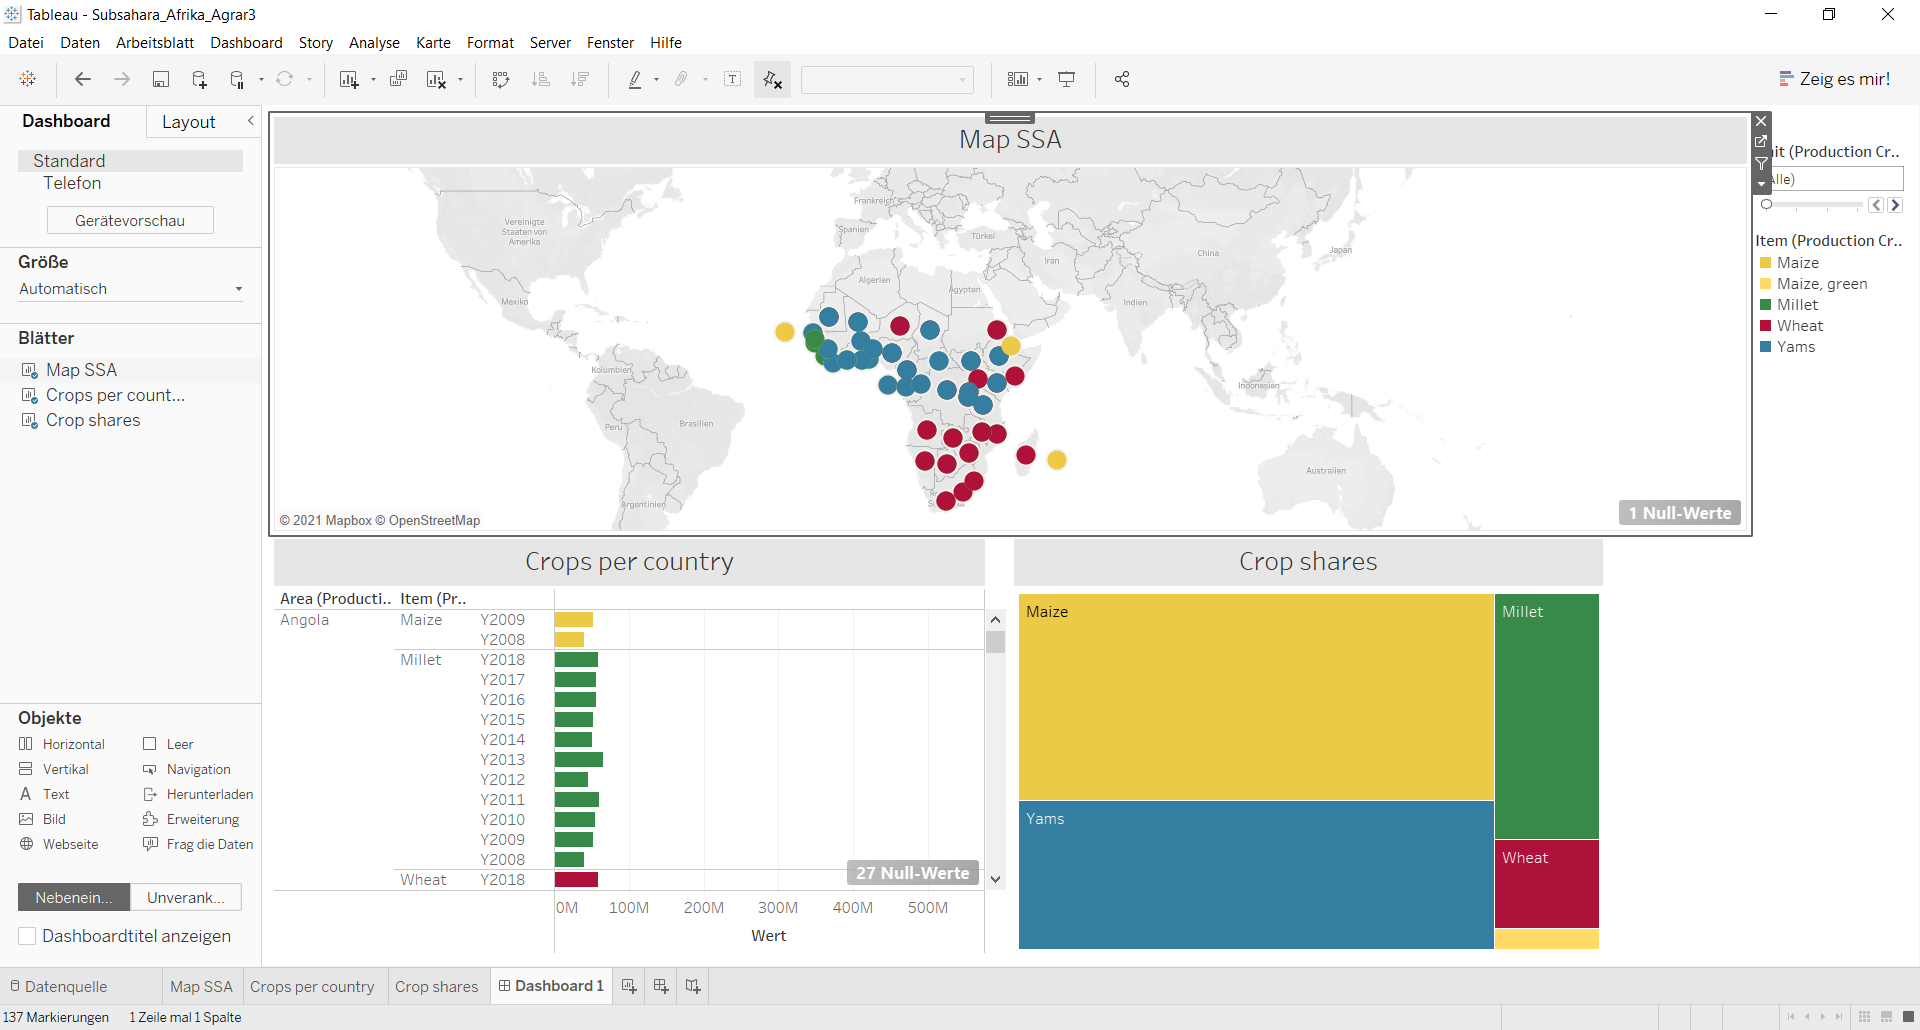

The page's visual inventory and layout, read from the dashboard file:
{"tool":"tableau","page":{"name":"Dashboard 1","canvas":[1000,1000],"units":"permille","ordinal":0},"visuals":[{"type":"worksheet","box":[0,0,1000,1000]},{"type":"worksheet","param":"horz","box":[5.2,9.1,989.5,981.9]},{"type":"worksheet","box":[5.2,9.1,884.7,981.9]},{"type":"worksheet","title":"Map SSA","mark":"Multipolygon","box":[5.2,9.1,884.7,490.9]},{"type":"worksheet","param":"vert","box":[890,9.1,104.8,981.9]},{"type":"worksheet","title":"Map SSA","mark":"Multipolygon","param":"[federated.06411ij0fmrvam14ixlwo0os8jm6].[none:Area (Production_Crops_E_All_Data","box":[890,9.1,104.8,27.2]},{"type":"worksheet","title":"Crops per country","mark":"Bar","rows":["Area (Production_Crops_E_All_Data.csv)","Item (Production_Crops_E_All_Data.csv)"],"param":"[federated.06411ij0fmrvam14ixlwo0os8jm6].[none:Unit (Production_Crops_E_All_Data","box":[890,36.2,104.8,89.5]},{"type":"worksheet","title":"Crop shares","mark":"Automatic","param":"[federated.06411ij0fmrvam14ixlwo0os8jm6].[none:Item (Production_Crops_E_All_Data","box":[890,125.7,104.8,200.5]},{"type":"worksheet","title":"Crops per country","mark":"Bar","rows":["Area (Production_Crops_E_All_Data.csv)","Item (Production_Crops_E_All_Data.csv)"],"box":[5.2,500,442.4,490.9]},{"type":"worksheet","title":"Crop shares","mark":"Automatic","box":[447.6,500,442.4,490.9]}]}

Visuals, with their boxes on the dashboard's canvas, which has no fixed pixel size, in thousandths of its width and height (x1, y1, x2, y2). These are canvas units, not pixel positions in the 1920x1030 screenshot, which may show the page scaled, cropped or inside an application window:
worksheet: <region>0, 0, 1000, 1000</region>
worksheet: <region>5, 9, 995, 991</region>
worksheet: <region>5, 9, 890, 991</region>
"Map SSA" worksheet (Multipolygon marks): <region>5, 9, 890, 500</region>
worksheet: <region>890, 9, 995, 991</region>
"Map SSA" worksheet (Multipolygon marks): <region>890, 9, 995, 36</region>
"Crops per country" worksheet (Bar marks): <region>890, 36, 995, 126</region>
"Crop shares" worksheet: <region>890, 126, 995, 326</region>
"Crops per country" worksheet (Bar marks): <region>5, 500, 448, 991</region>
"Crop shares" worksheet: <region>448, 500, 890, 991</region>
